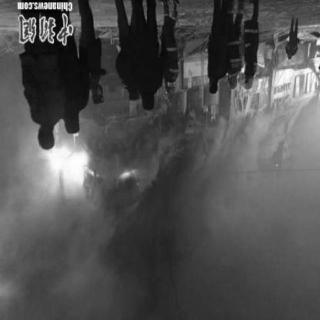Fire: (48, 146, 88, 197), (117, 170, 137, 182)
Smoke: (142, 130, 278, 198)
